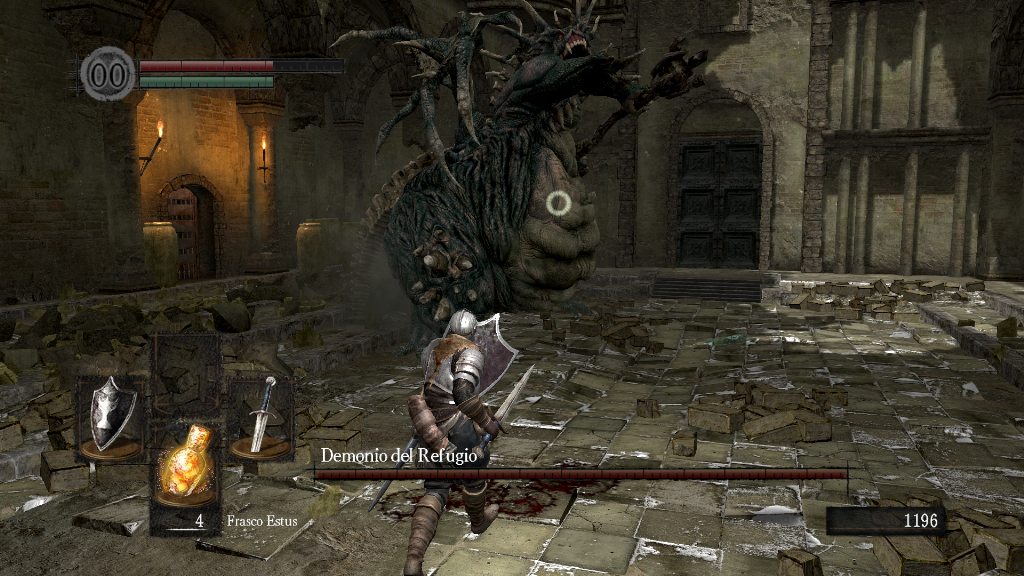asylumDemon: (329, 2, 711, 340)
bossHP: (314, 469, 847, 479)
health: (138, 58, 343, 71)
humanity: (80, 45, 136, 102)
player: (404, 308, 536, 576)
souls: (825, 506, 945, 536)
stamina: (138, 74, 274, 88)
